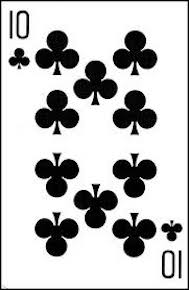TenOfClubs: (4, 5, 185, 281)
